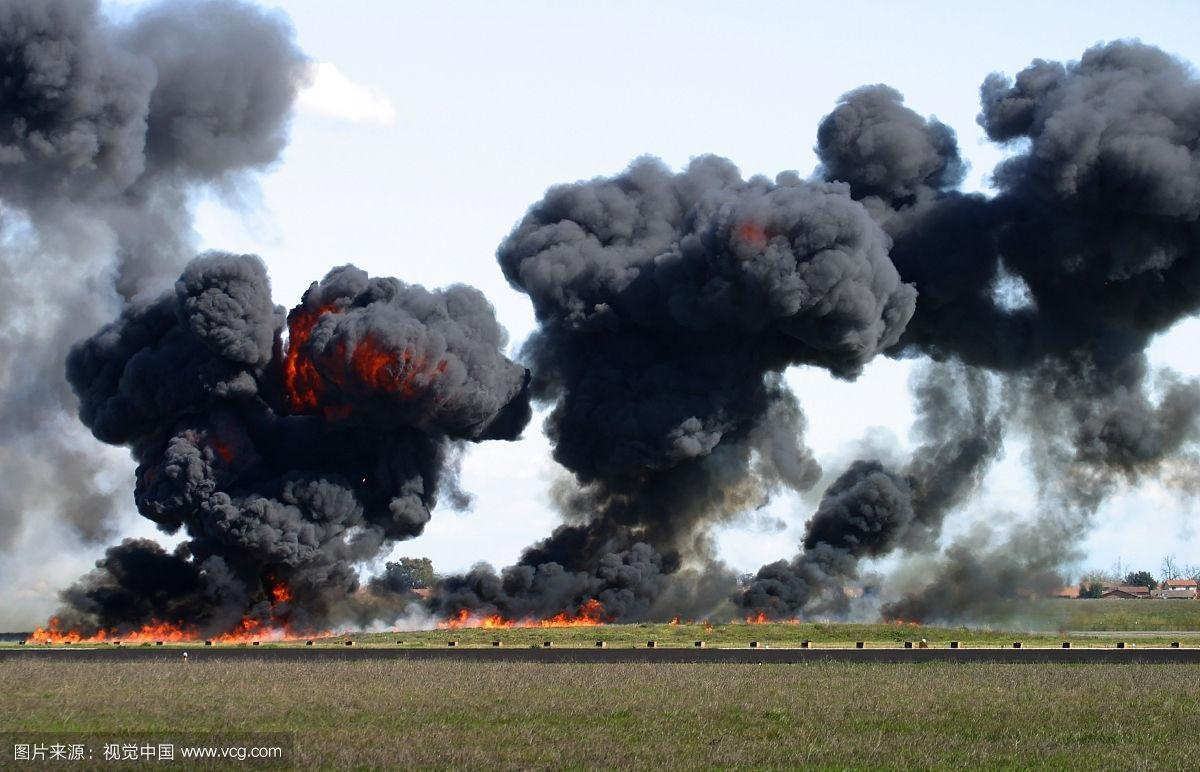fire: (34, 600, 338, 649), (439, 604, 604, 632)
